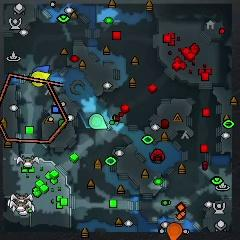p1: (32, 63, 50, 76)
p2: (88, 112, 108, 131)
p4: (29, 72, 51, 86)
p5: (166, 221, 183, 240)
